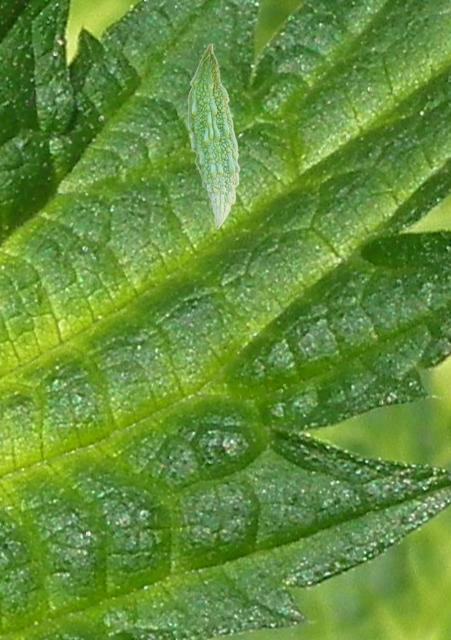ampalaya: (187, 43, 240, 229)
